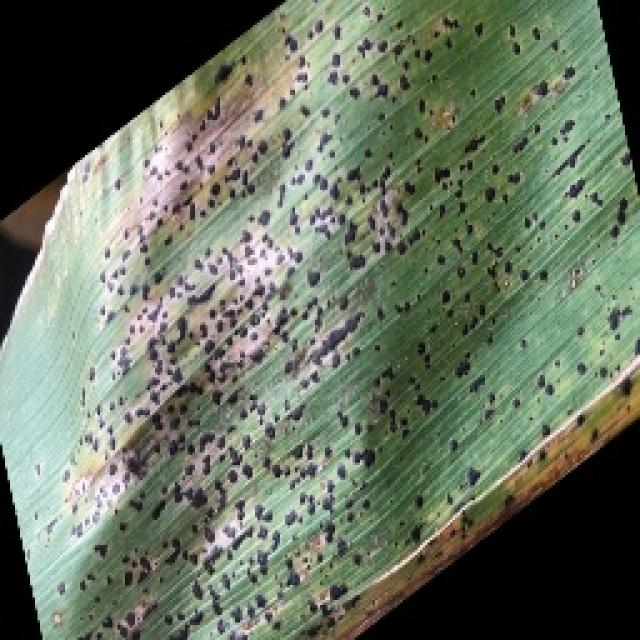Tar_Spot: (75, 90, 570, 560)
